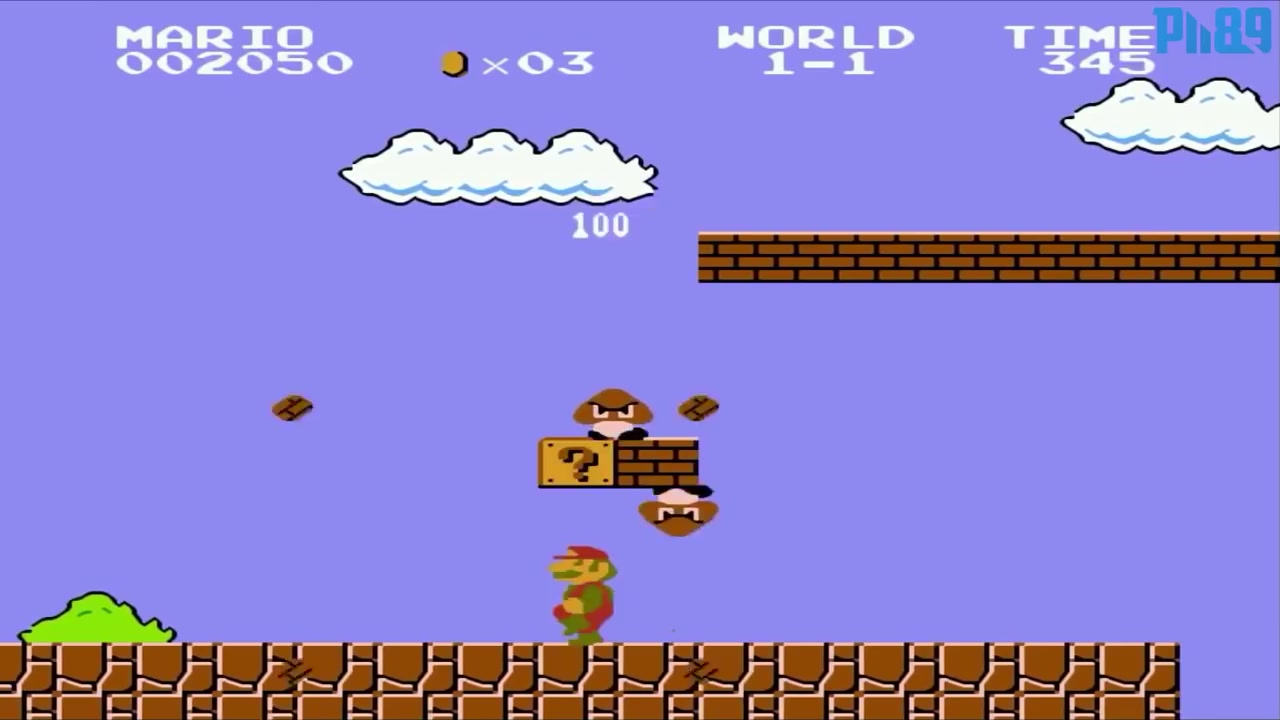mario: (535, 537, 622, 643)
